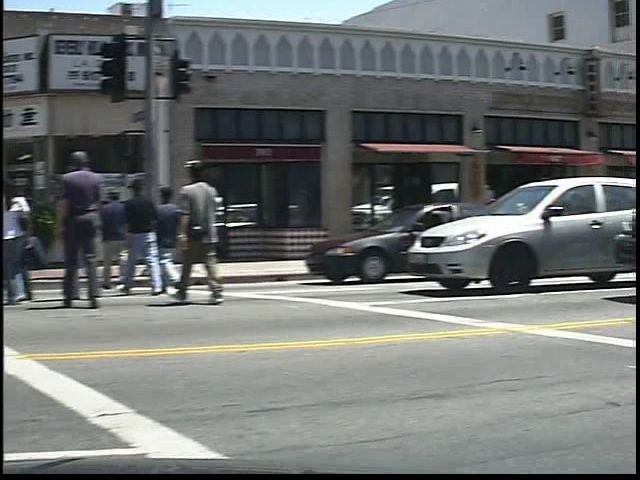person: (64, 147, 126, 315), (1, 177, 51, 309)
